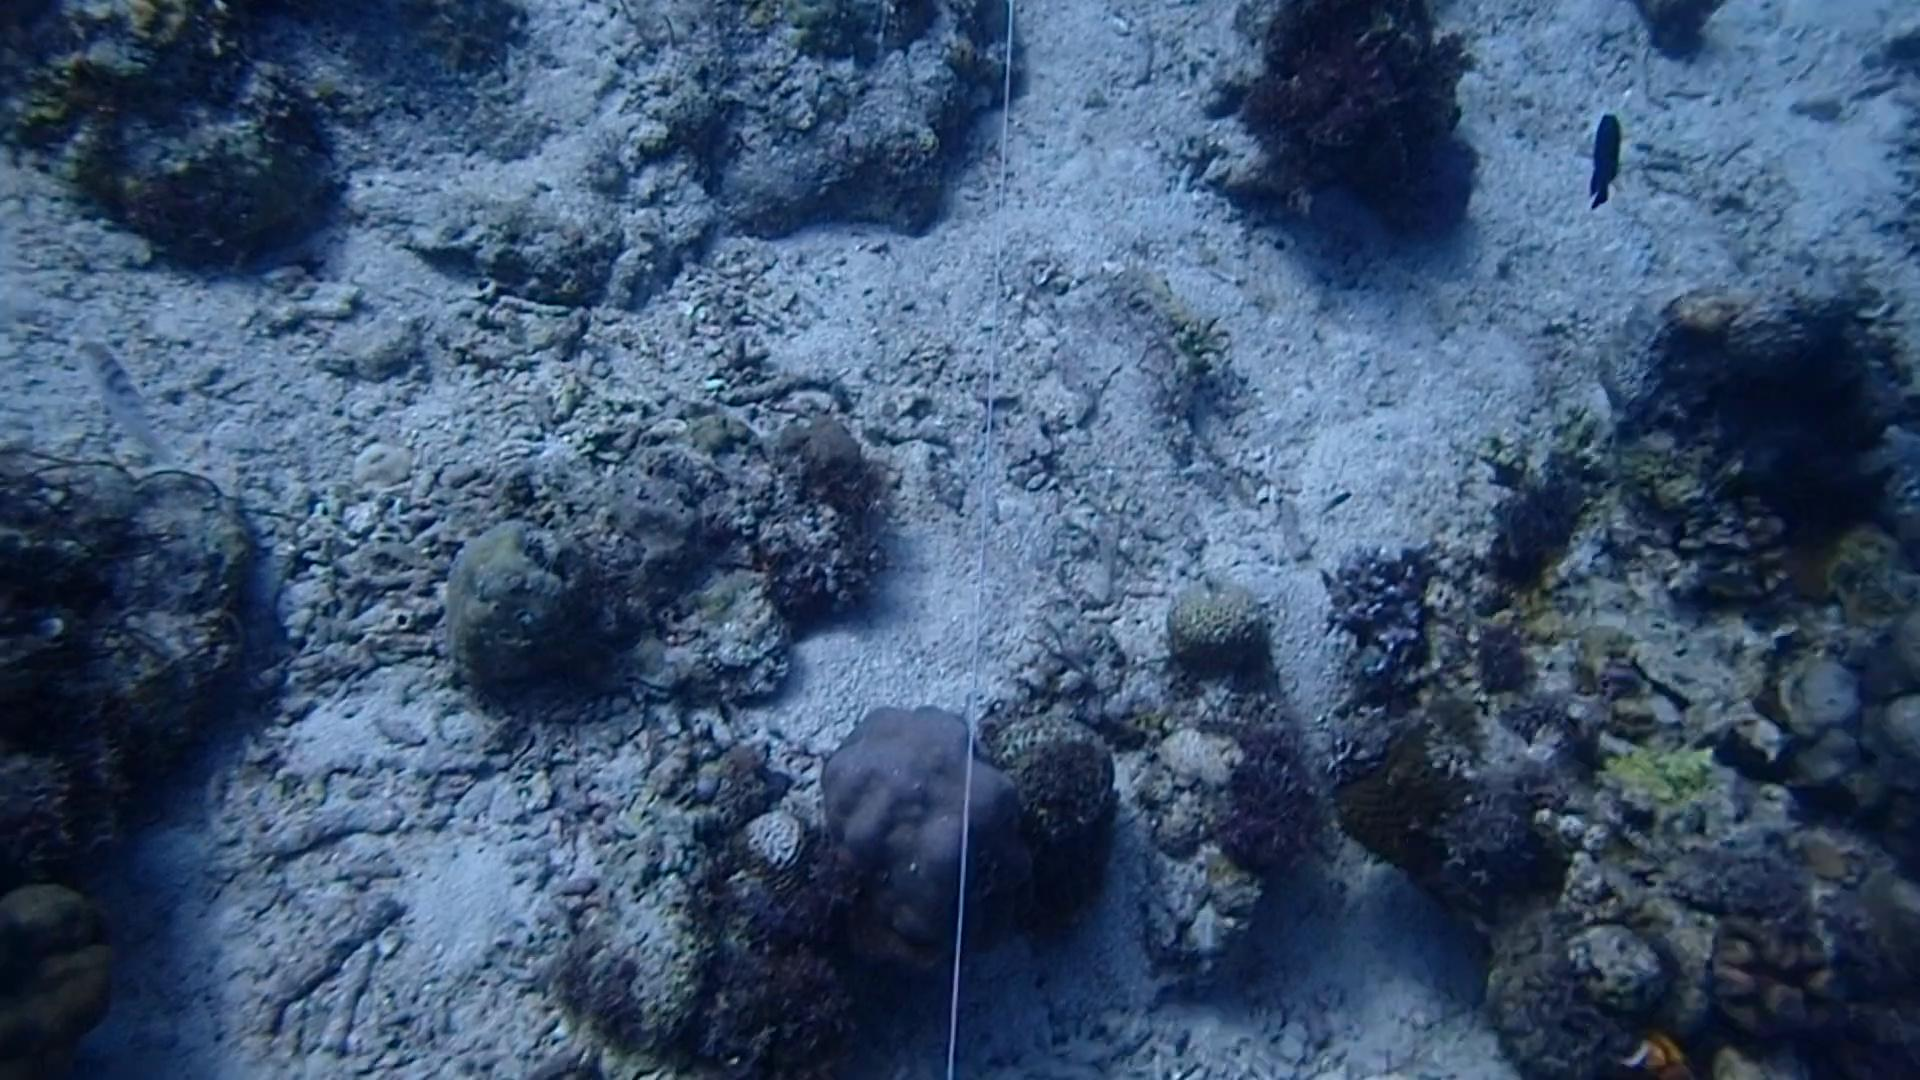Dark Fish: (1568, 109, 1639, 216)
Light Fish w Back Stripes: (62, 334, 177, 468)
